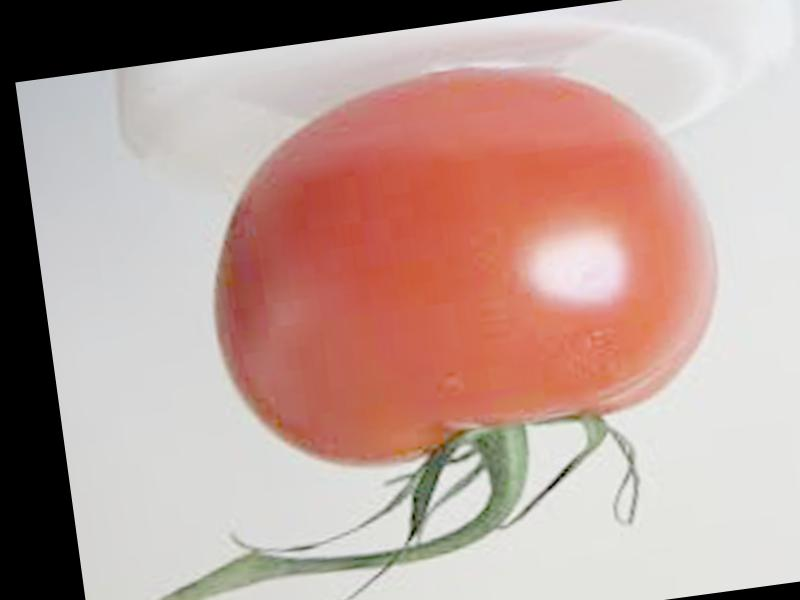Tomato: (185, 40, 737, 485)
